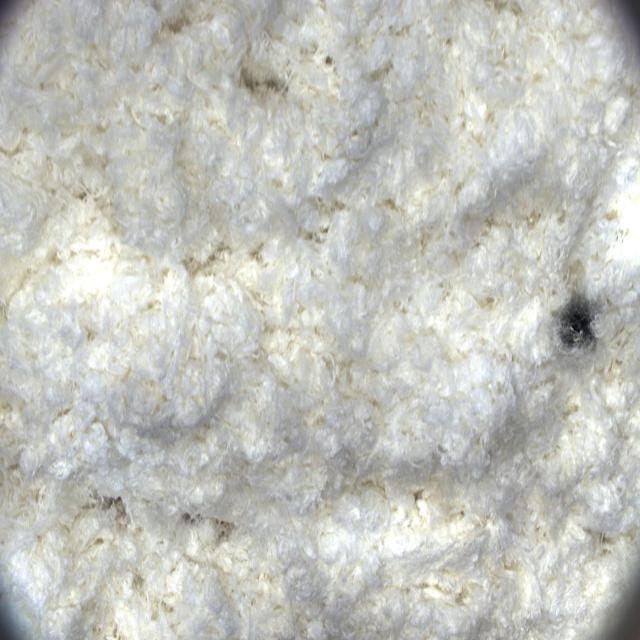dust: (537, 256, 625, 394)
